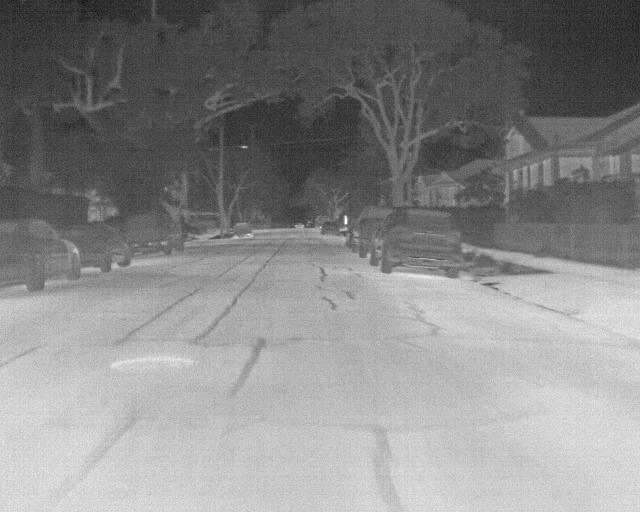car: (370, 208, 463, 280), (1, 214, 80, 295), (59, 219, 131, 275), (125, 210, 186, 256), (346, 205, 393, 259), (233, 221, 254, 240), (321, 219, 340, 235), (293, 221, 305, 230)
